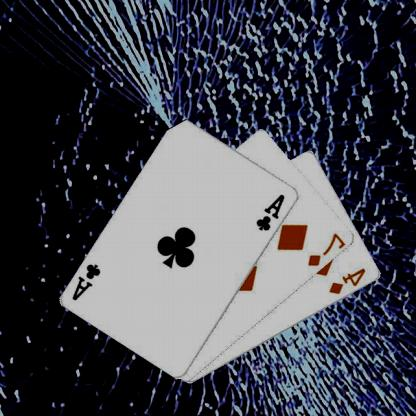4D: (328, 265, 370, 296)
7D: (307, 230, 348, 268)
AC: (72, 260, 104, 302), (256, 191, 288, 232)
